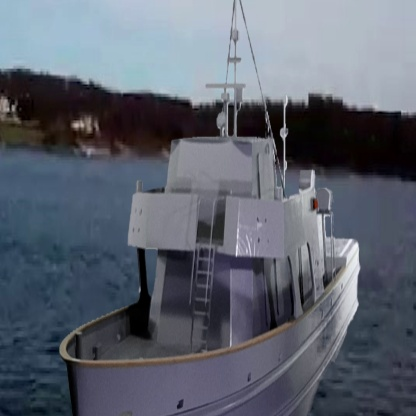YP689: (56, 0, 361, 416)
